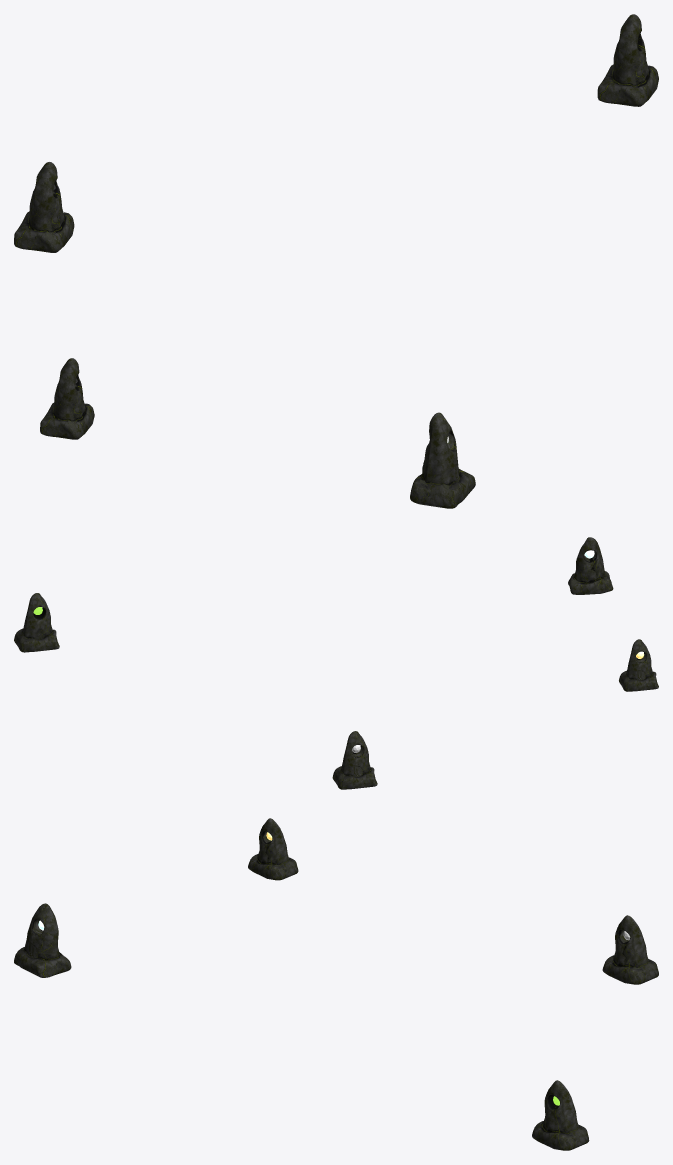
File: Elementry-Stones.fbx
The picture shows the model from 3 angles, top to bottom: view 1: azimuth 30°, elevation 25°; view 2: azimuth 150°, elevation 25°; view 3: azimuth 270°, elevation 25°; orthographic projection. The views are drawn at different scales.
Parts seen in each view (by area): view 1: Object_16, Object_6, Object_12, Object_8; view 2: Object_6, Object_16, Object_12, Object_8; view 3: Object_16, Object_6, Object_12, Object_8.
Boxes of the visible parts, x1,y1,x2,y2 form: Object_16: (410,412,475,508); Object_6: (597,14,658,106); Object_12: (14,162,74,252); Object_8: (40,358,94,439); Object_6: (14,593,59,652); Object_16: (568,537,613,594); Object_12: (332,731,377,789); Object_8: (619,639,658,691); Object_16: (14,903,71,977); Object_6: (532,1080,589,1150); Object_12: (602,915,658,984); Object_8: (248,818,298,880).
Size of the model in its own units: 1170 by 177 by 1047.
Materials: 8 (4 with a texture image).
